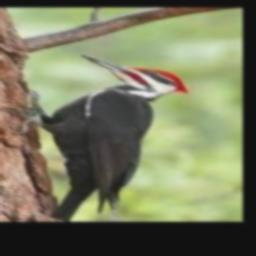Woodpecker: (8, 54, 189, 221)
